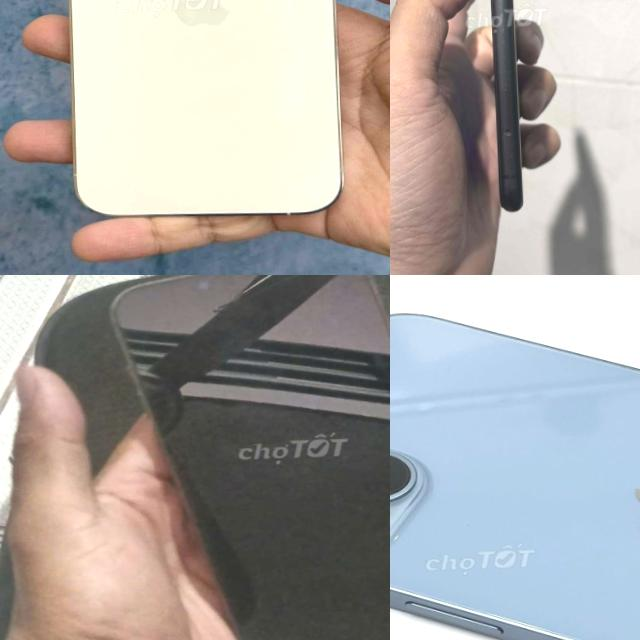physical_damage: (187, 275, 390, 311)
scratch: (486, 0, 516, 101)
